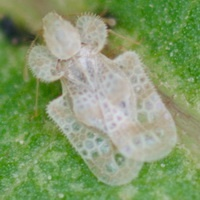insect: (28, 12, 176, 184), (28, 12, 175, 184)
